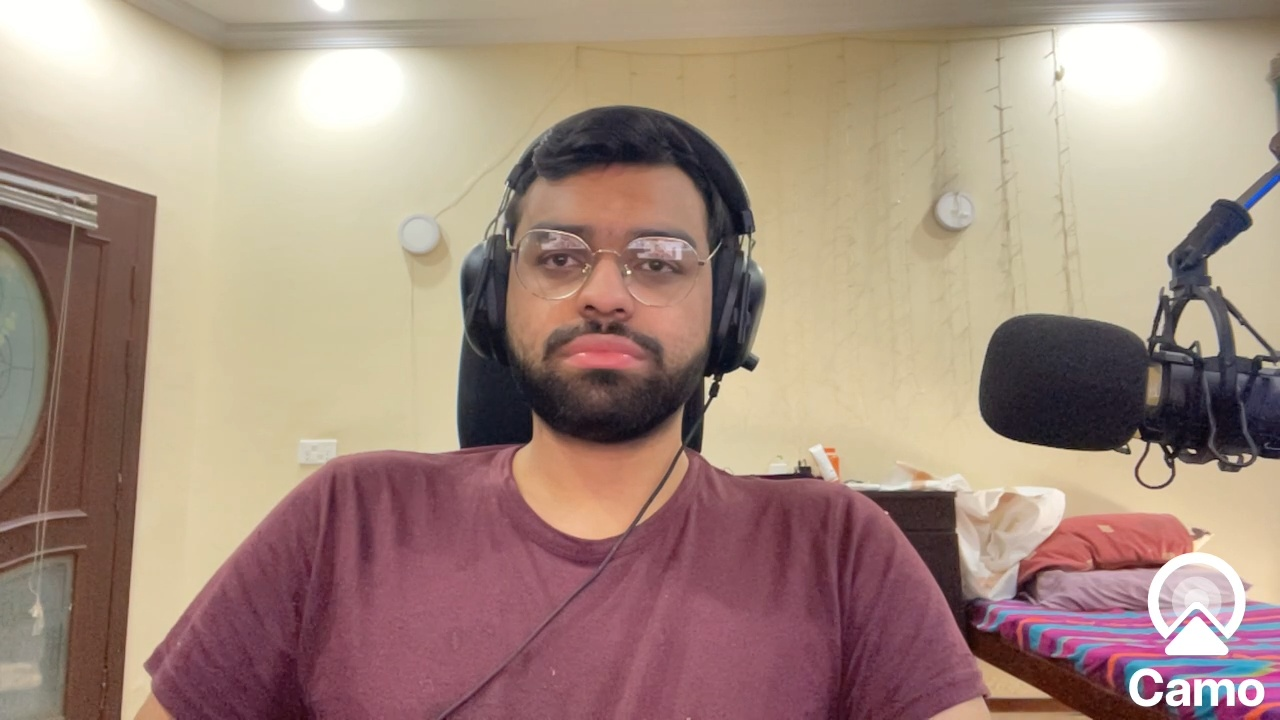neutral: (503, 168, 709, 420)
